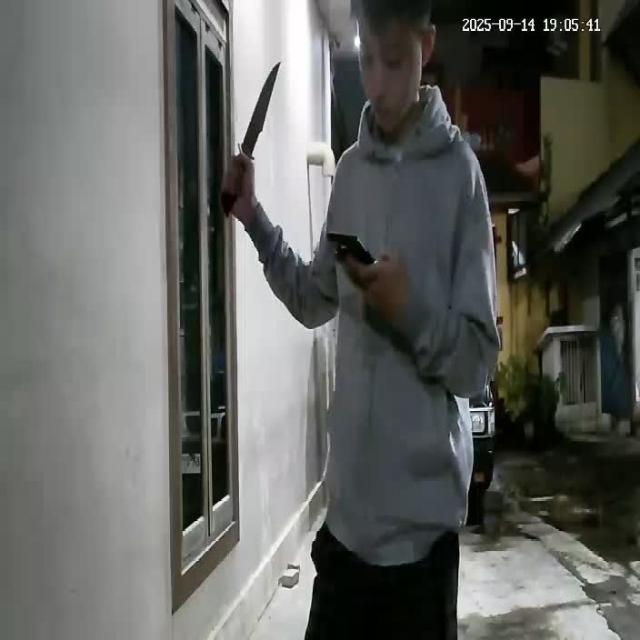senjata_tajam: (238, 56, 282, 161)
